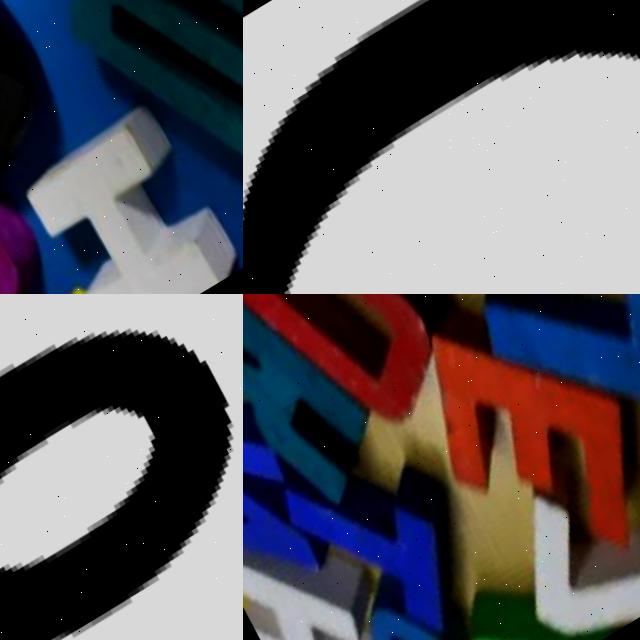6: (0, 294, 243, 640)
E: (349, 294, 640, 634)
G: (0, 150, 89, 294)
H: (0, 72, 243, 294), (243, 484, 459, 640)
J: (424, 294, 640, 490)
K: (243, 294, 446, 561)
M: (0, 0, 243, 233)
N: (243, 340, 372, 624)
O: (291, 623, 453, 640)
U: (243, 294, 517, 492)
